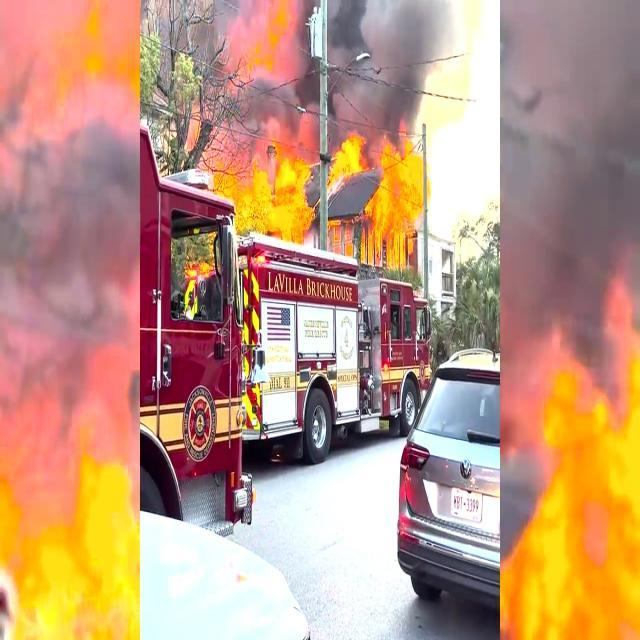Fire: (316, 150, 433, 279), (233, 112, 304, 256)
Smoke: (310, 5, 456, 139)
